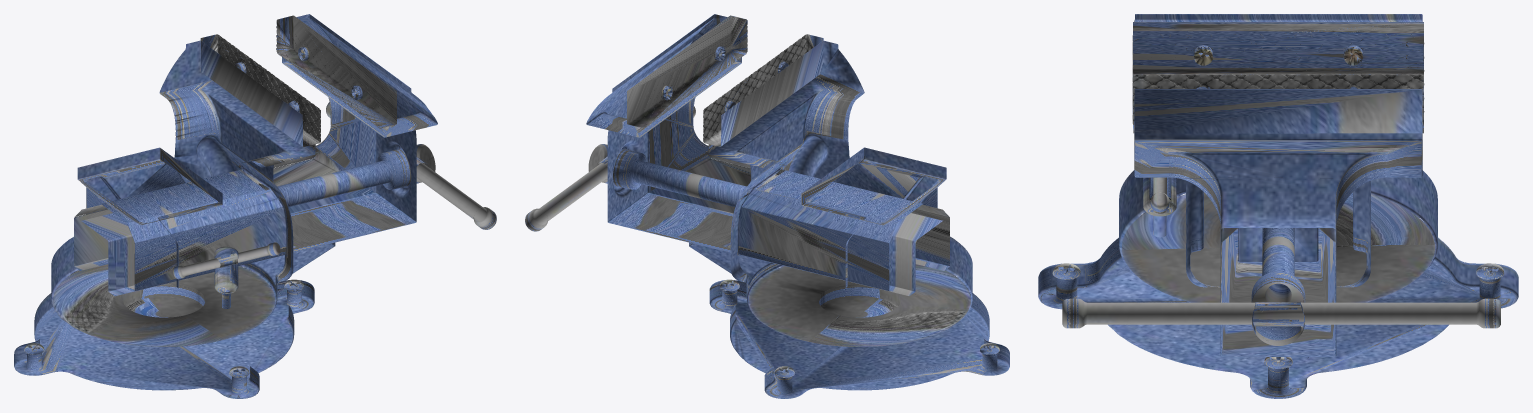
The model's file is morsa.glb.
The picture shows the model from 3 angles, left to right: view 1: azimuth 30°, elevation 25°; view 2: azimuth 150°, elevation 25°; view 3: azimuth 270°, elevation 25°; orthographic projection. The views are drawn at different scales.
Parts seen in each view (by area): view 1: sm_equipment_bench_vise_a01_01; view 2: sm_equipment_bench_vise_a01_01; view 3: sm_equipment_bench_vise_a01_01.
Boxes of the visible parts, bbox=[...] form: sm_equipment_bench_vise_a01_01: bbox=[14, 14, 496, 398]; sm_equipment_bench_vise_a01_01: bbox=[525, 14, 1009, 398]; sm_equipment_bench_vise_a01_01: bbox=[1038, 14, 1518, 398].
Bounding box in the file's own units: 0.3244 × 0.1803 × 0.2328.
8 materials, 8 textured.
